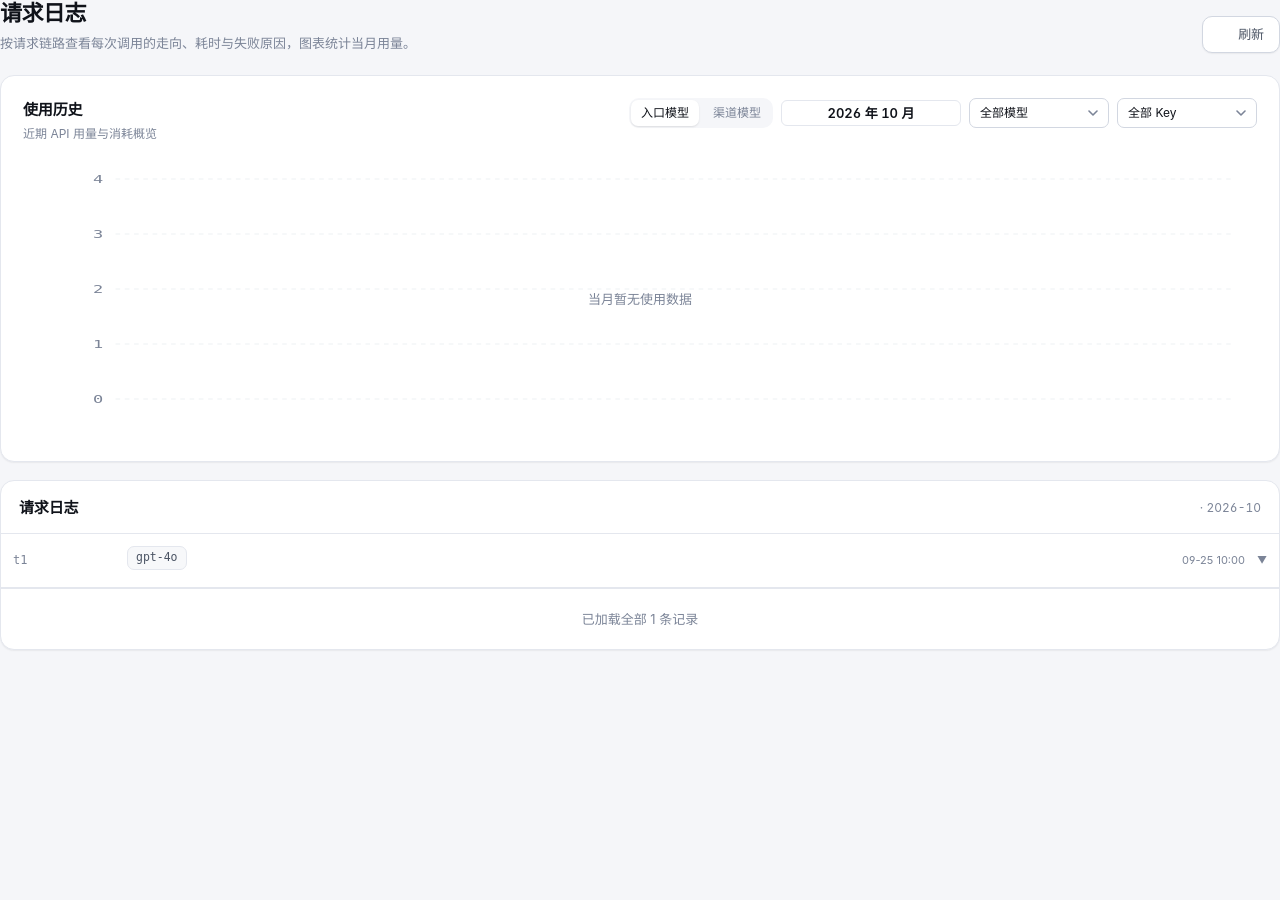
Test: 请求日志页 - 性能重构回归 › 详情弹框里说明路由来源（粘性命中）
Click the element with class "log-trace" at (640, 561), box [1,534,1279,588]
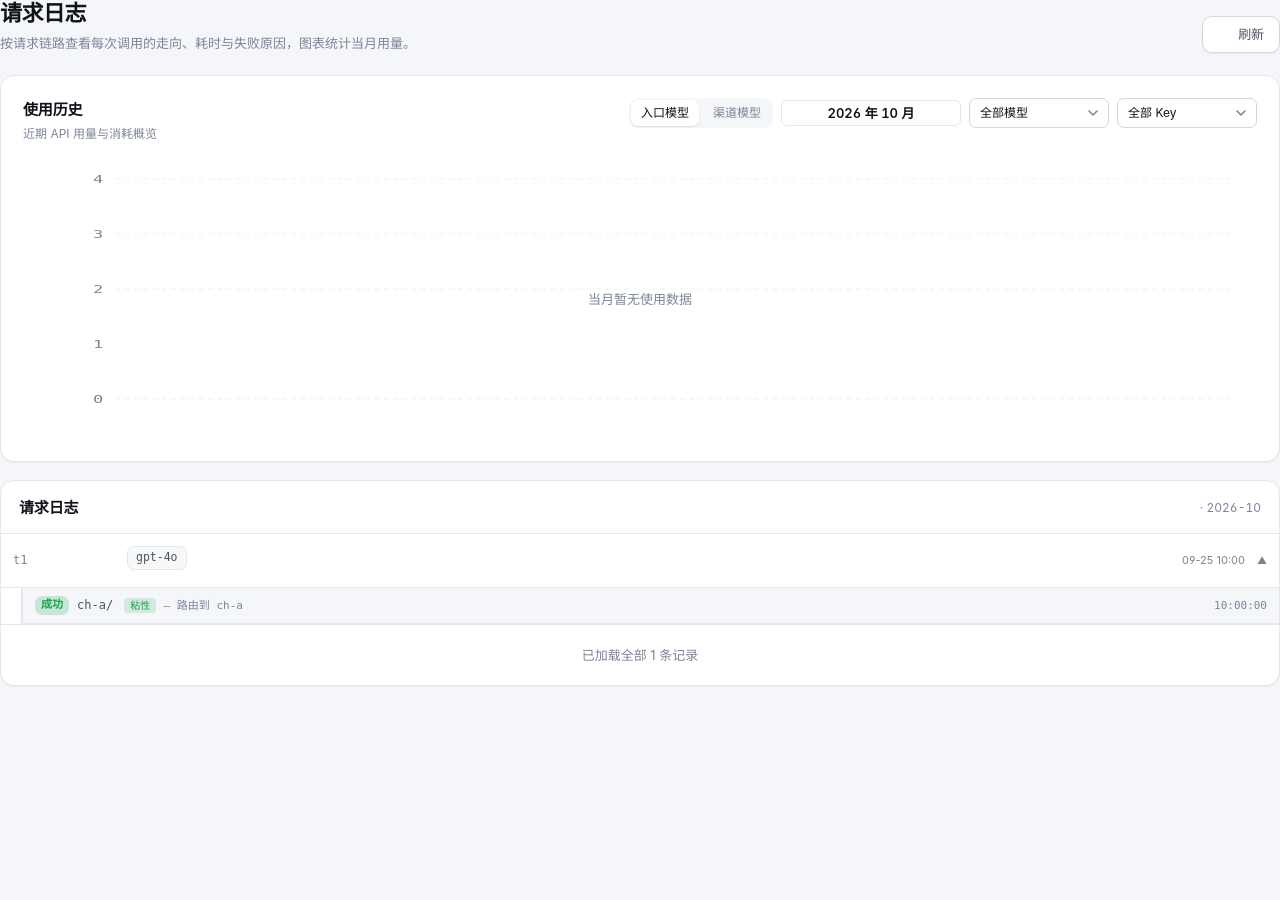
Click the element with class "log-entry" at (52, 605), box [35,596,1267,614]
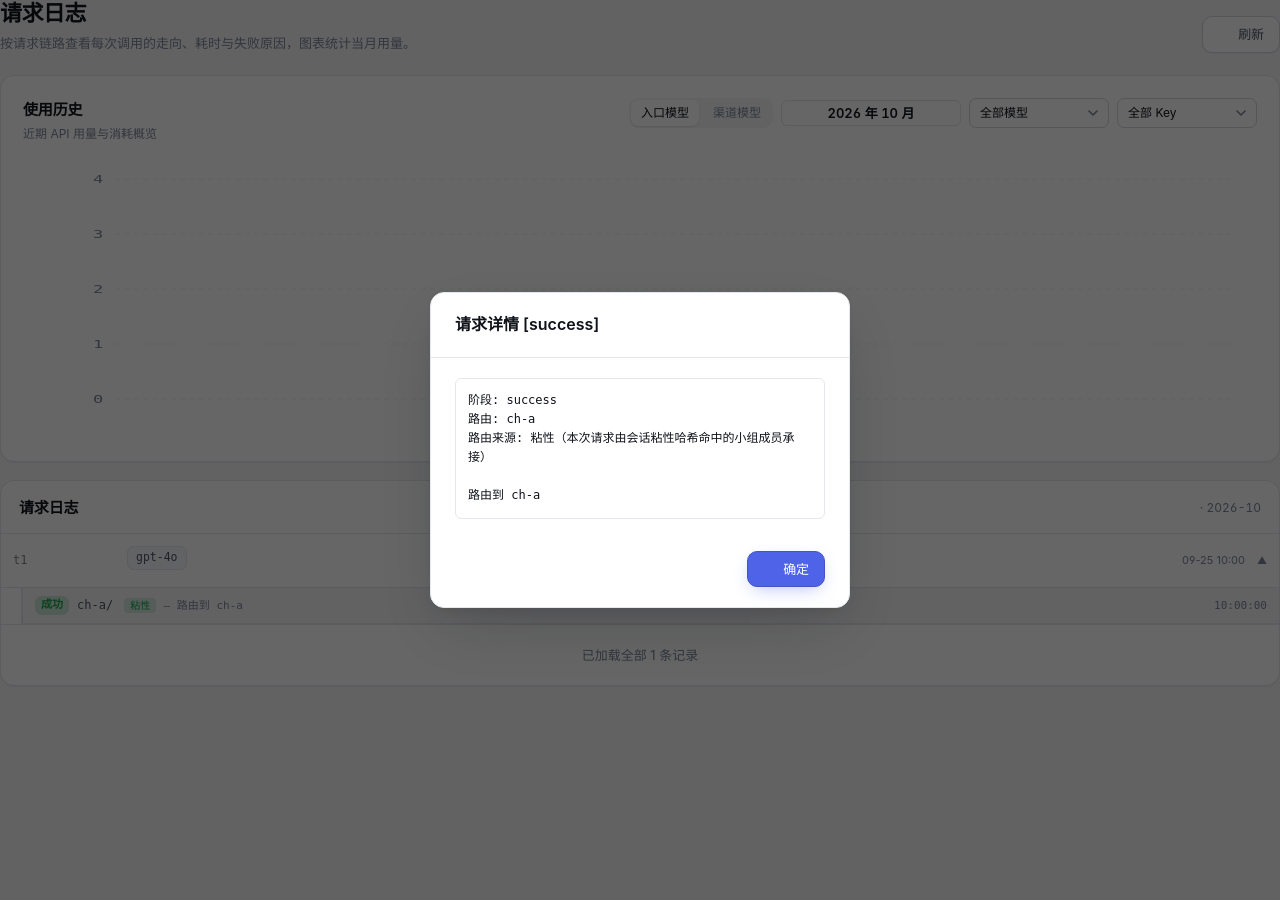
Expected: the dialog with class "dialog-box" is shown, [430,292,850,608]
Expected: the dialog with class "dialog-box" shows "粘性", [468,392,794,502]
